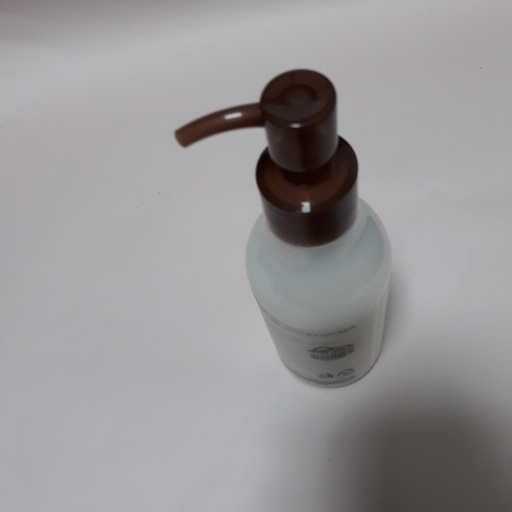Plastic_3: (167, 68, 394, 388)
